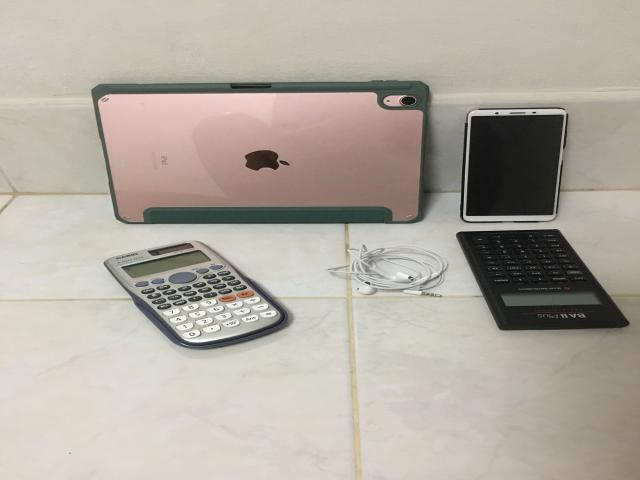Mobile phone: (460, 108, 567, 222)
wire: (327, 246, 448, 297)
